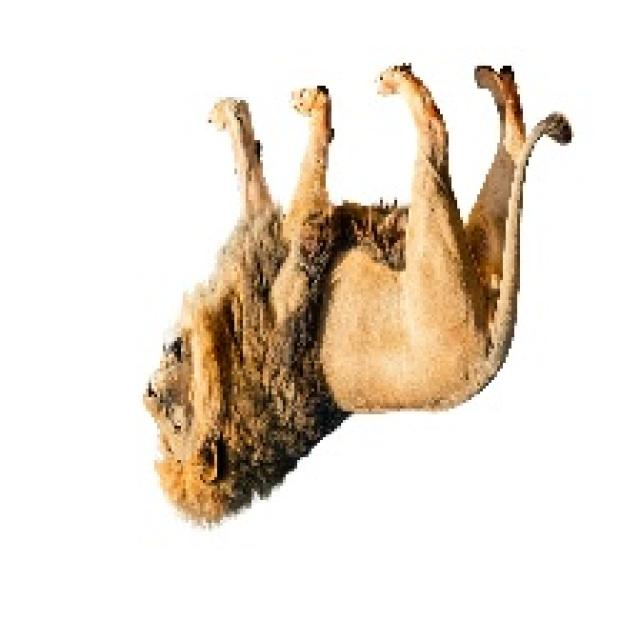animal: (117, 75, 538, 505)
